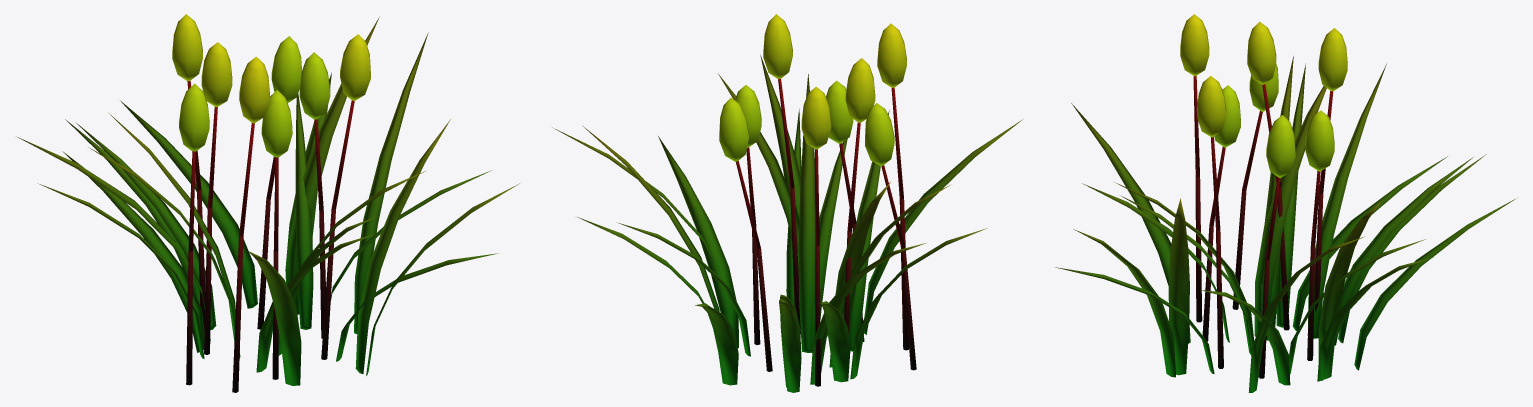
File: SM_MeadowPlume.fbx
The picture shows the model from 3 angles, left to right: view 1: azimuth 30°, elevation 25°; view 2: azimuth 150°, elevation 25°; view 3: azimuth 270°, elevation 25°; orthographic projection. The views are drawn at different scales.
Parts seen in each view (by area): view 1: SM_MeadowPlume; view 2: SM_MeadowPlume; view 3: SM_MeadowPlume.
Boxes of the visible parts, <box> form: SM_MeadowPlume: <box>16,14,519,392</box>; SM_MeadowPlume: <box>552,14,1022,392</box>; SM_MeadowPlume: <box>1055,14,1515,392</box>.
Bounding box in the file's own units: 119 × 119 × 89.24.
